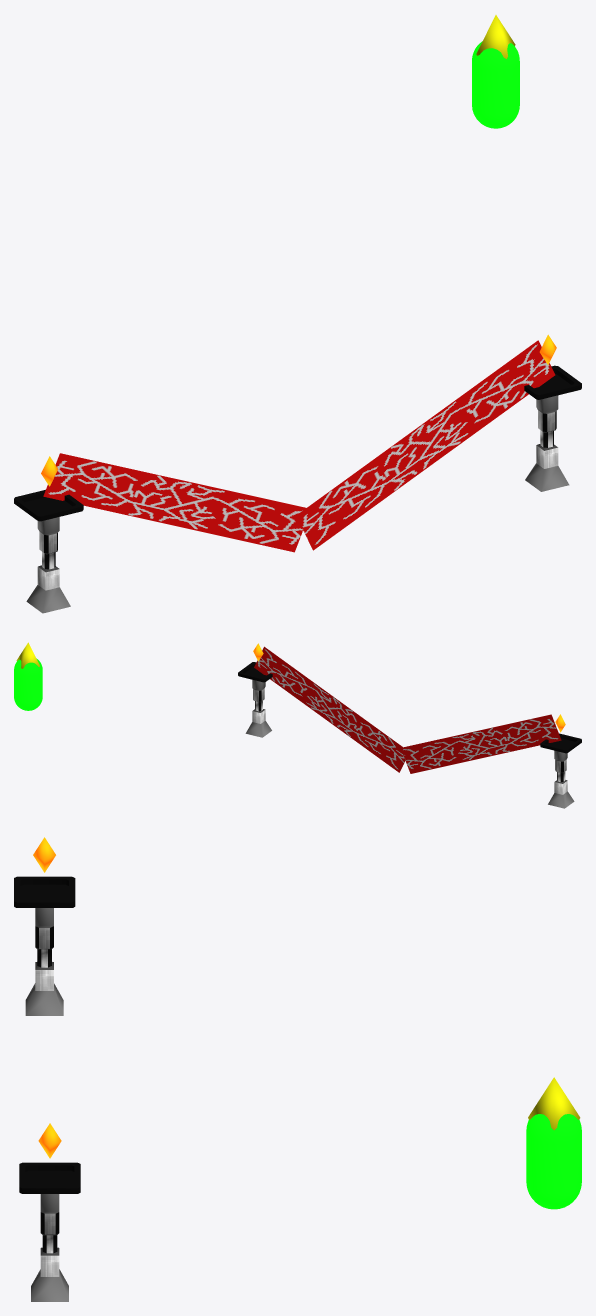
Rendered from MdlLazergate.fbx.
3 views of the same model, one above another, from view 1: azimuth 30°, elevation 25°; view 2: azimuth 150°, elevation 25°; view 3: azimuth 270°, elevation 25° (orthographic). The views are drawn at different scales.
Parts seen in each view (by area): view 1: shitass2, Shitass1, GateSwitch, Box001 1, Box001, orb; view 2: shitass2, Shitass1, GateSwitch, Box001 1, Box001, orb; view 3: GateSwitch, Box001, Box001 1, orb.
Boxes of the visible parts, x1=… form: shitass2: x1=43, y1=453, x2=305, y2=552; Shitass1: x1=296, y1=340, x2=555, y2=550; GateSwitch: x1=472, y1=41, x2=519, y2=128; Box001 1: x1=14, y1=489, x2=83, y2=613; Box001: x1=524, y1=365, x2=581, y2=491; orb: x1=476, y1=15, x2=515, y2=58; shitass2: x1=400, y1=714, x2=561, y2=773; Shitass1: x1=254, y1=646, x2=409, y2=772; GateSwitch: x1=14, y1=658, x2=42, y2=710; Box001 1: x1=540, y1=733, x2=581, y2=808; Box001: x1=238, y1=662, x2=272, y2=737; orb: x1=16, y1=642, x2=39, y2=668; GateSwitch: x1=526, y1=1114, x2=581, y2=1209; Box001: x1=19, y1=1162, x2=80, y2=1301; Box001 1: x1=14, y1=876, x2=75, y2=1015; orb: x1=528, y1=1077, x2=580, y2=1130.
Size of what is drawn, in the model's own units: 1020 by 383 by 610.
Materials: 9 (2 with a texture image).
